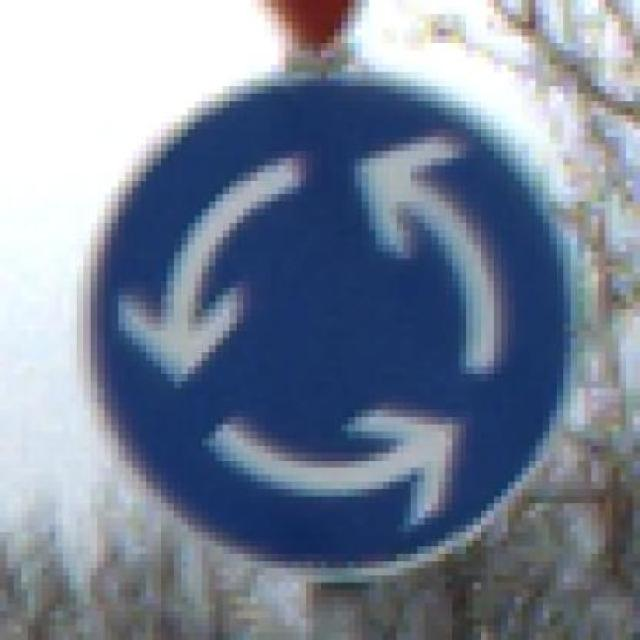Round-About: (48, 36, 620, 604)
